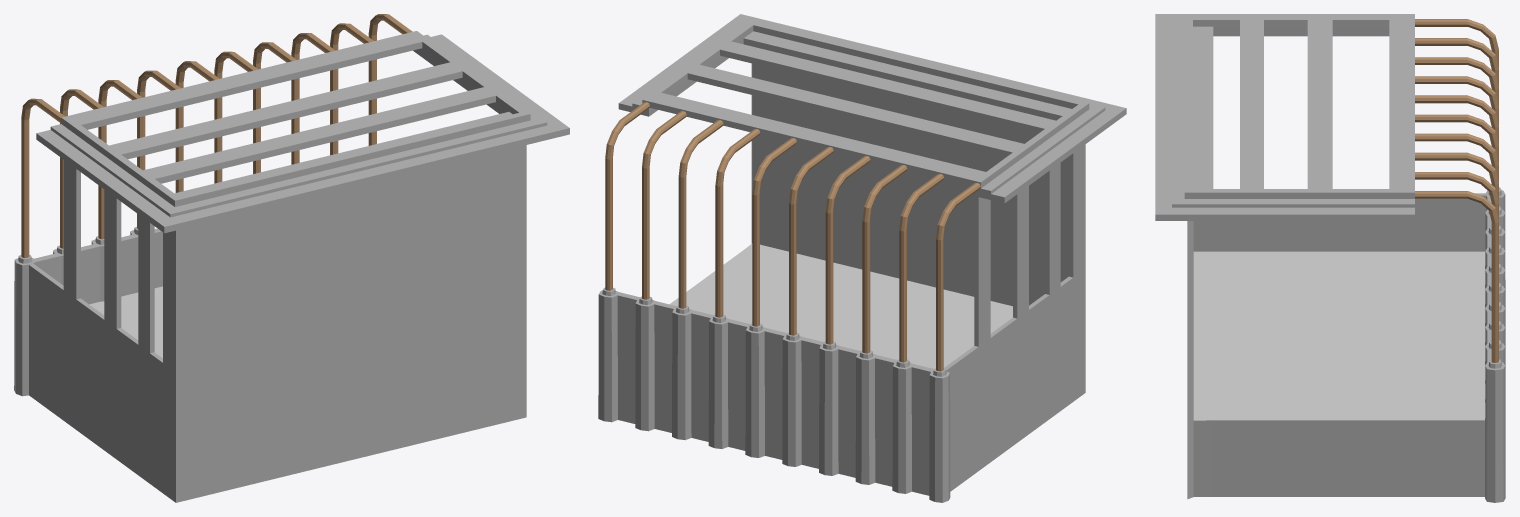
Rendered from serre.fbx.
The picture shows the model from 3 angles, left to right: view 1: azimuth 30°, elevation 25°; view 2: azimuth 150°, elevation 25°; view 3: azimuth 270°, elevation 25°; orthographic projection. The views are drawn at different scales.
Visible parts, largest first — view 1: Cube.005; view 2: Cube.005; view 3: Cube.005.
Boxes of the visible parts, x1,y1,x2,y2 form: Cube.005: (14, 14, 569, 502); Cube.005: (598, 14, 1126, 502); Cube.005: (1155, 14, 1505, 502).
Bounding box in the file's own units: 0.456 × 0.3266 × 0.3365.
